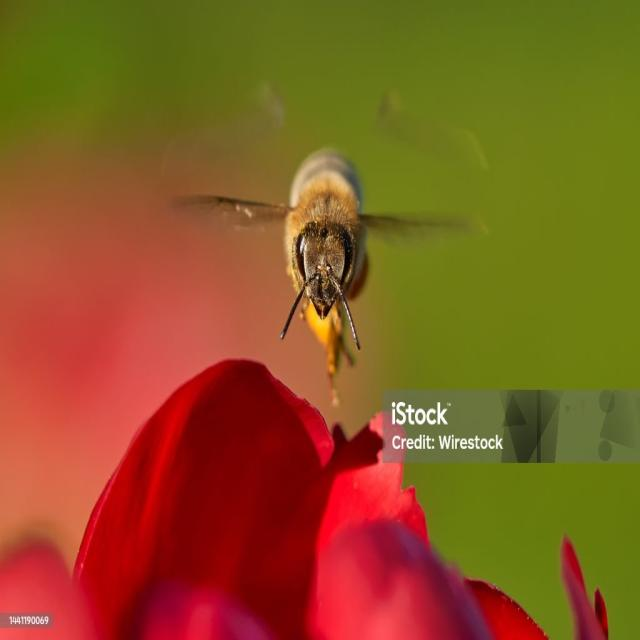bees: (165, 74, 493, 404)
